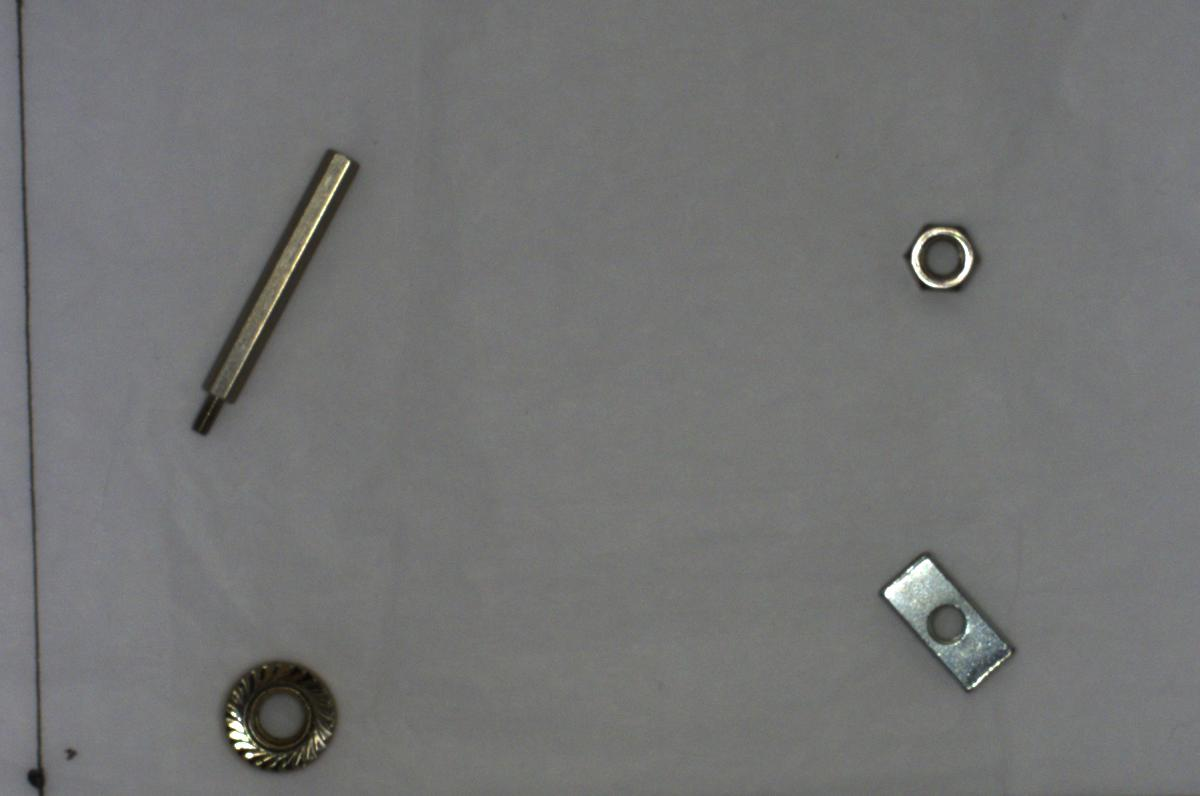Flange nut: (210, 645, 348, 774)
Hexagon nut: (890, 216, 986, 300)
Hexagonal steel column: (167, 134, 370, 440)
Rectangular nut: (875, 541, 1026, 702)
